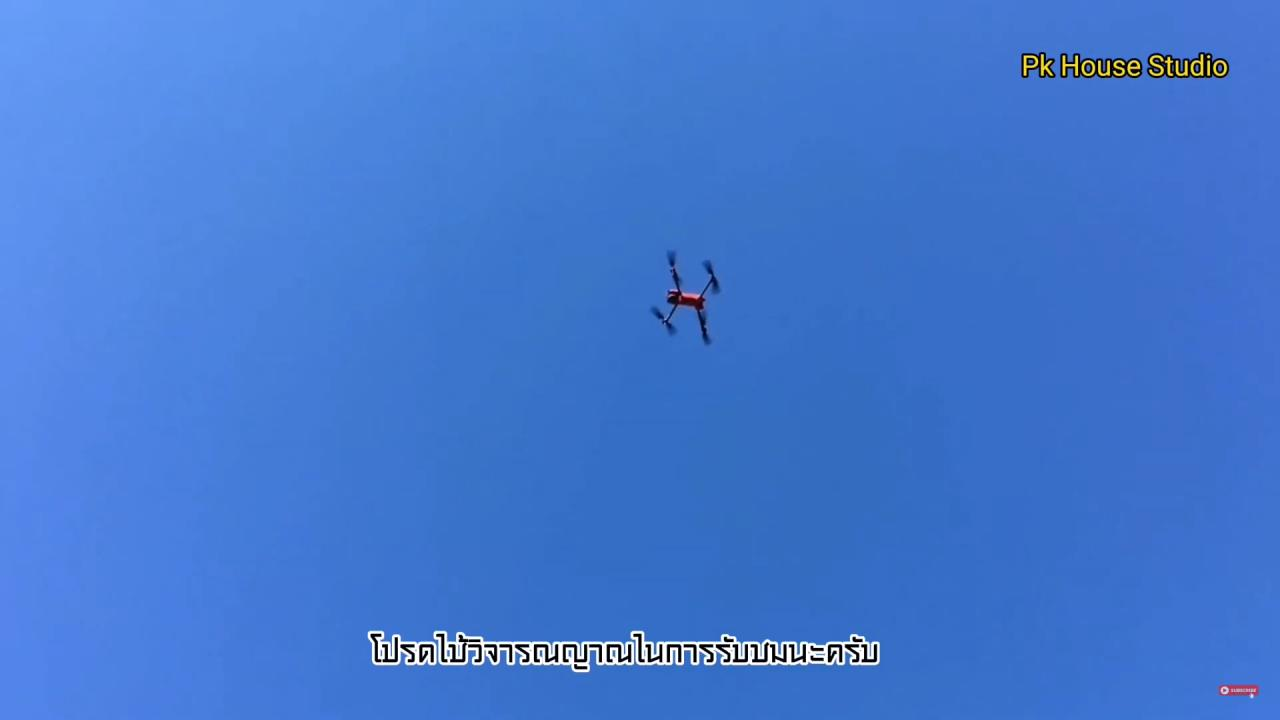Drone: (637, 241, 734, 358)
